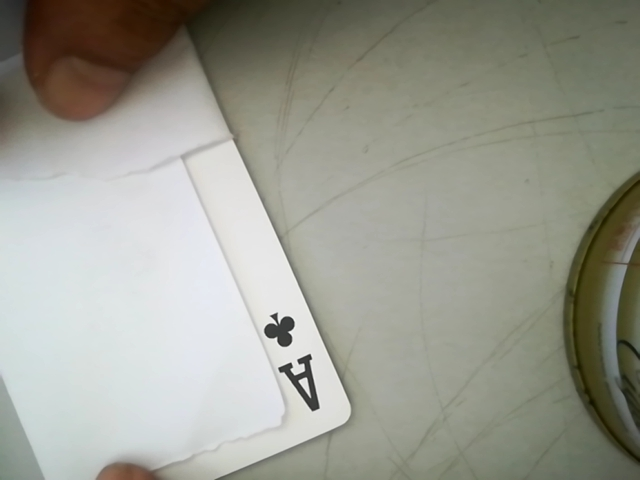mh a: (258, 301, 332, 428)
